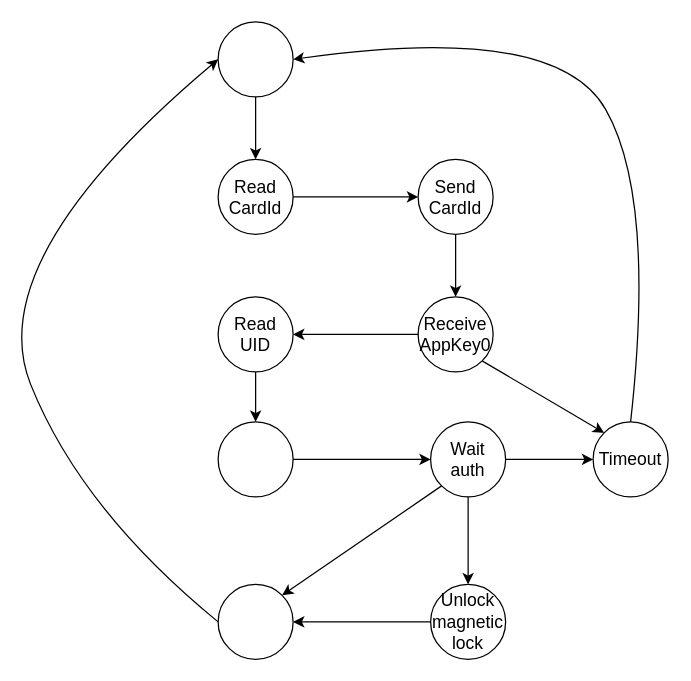
The diagram is 691 pixels wide and 681 high, and some of its shapes have lost their labels. The centre of each missing label's shape, as x and y in pixels:
"End process" goes at point (255, 621).
"Send UID" goes at point (255, 459).
"Wait for card" goes at point (255, 59).
